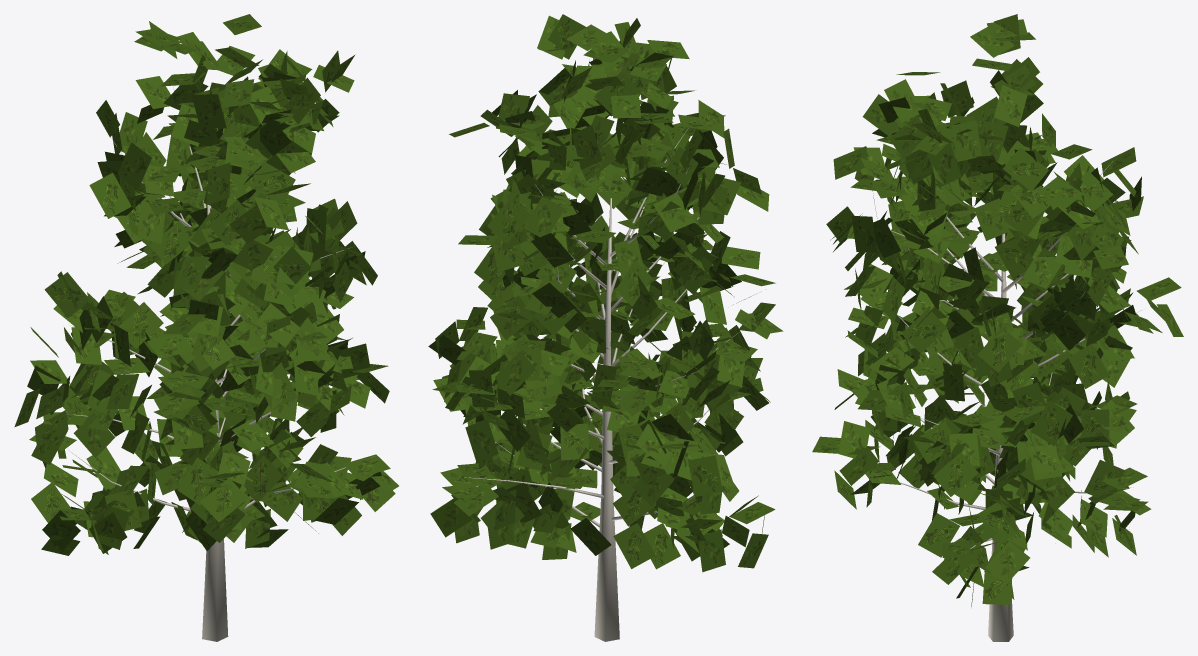
The model's file is near.glb.
3 views of the same model, side by side, from view 1: azimuth 30°, elevation 25°; view 2: azimuth 150°, elevation 25°; view 3: azimuth 270°, elevation 25° (orthographic). The views are drawn at different scales.
Visible parts, largest first — view 1: foliage, bark; view 2: foliage, bark; view 3: foliage, bark.
Part boxes in pixels (left/top/right/bottom): foliage: left=14, top=14, right=398, bottom=555; bark: left=67, top=86, right=372, bottom=641; foliage: left=428, top=14, right=783, bottom=572; bark: left=464, top=128, right=740, bottom=641; foliage: left=812, top=14, right=1183, bottom=606; bark: left=872, top=161, right=1141, bottom=641.
Size of the model in its own units: 15.41 by 28.22 by 15.93.
2 materials, 1 textured.
